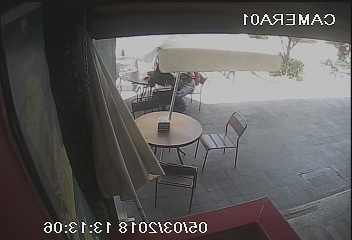libre: (127, 98, 240, 207)
ocupado: (120, 57, 193, 114)
